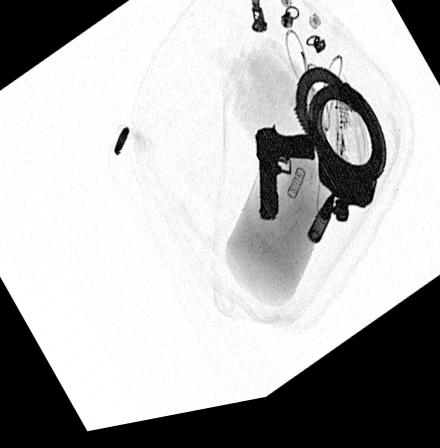Bullet: (307, 204, 333, 254)
Gun: (254, 137, 316, 232)
HandCuffs: (288, 75, 388, 236)
